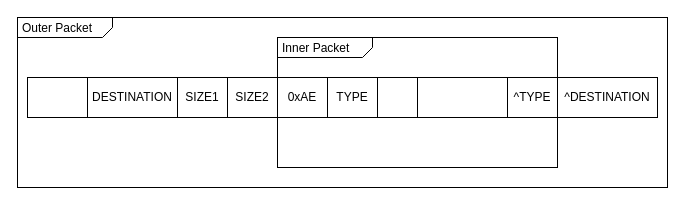
This 685x205 diagram has some shape labels left out. The shapes that lost their labels are listed below. From the top down, each one's box as (x1, y1, x2, y2) in pixels, then its label:
(26, 76, 88, 118): 0xBF
(376, 76, 418, 118): SIZE
(416, 76, 508, 118): DATA ... DATA
